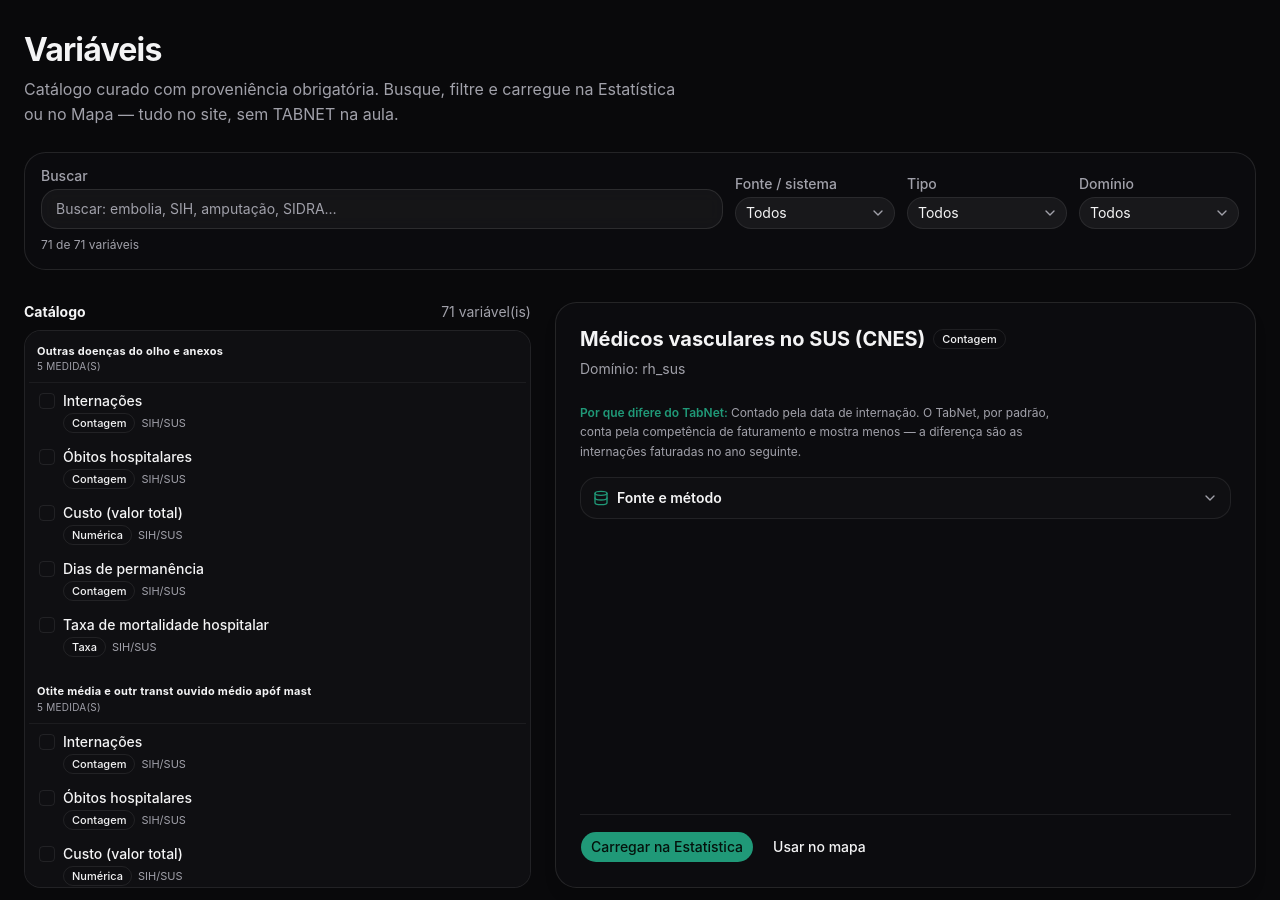
Test: VariaveisPage › finds AVC-labeled entries after canonization via the curated alias layer (TAX-05)
Type "avc" into the search field labelled "Buscar".
click(382, 209); type("avc")  # box [41,189,723,229]
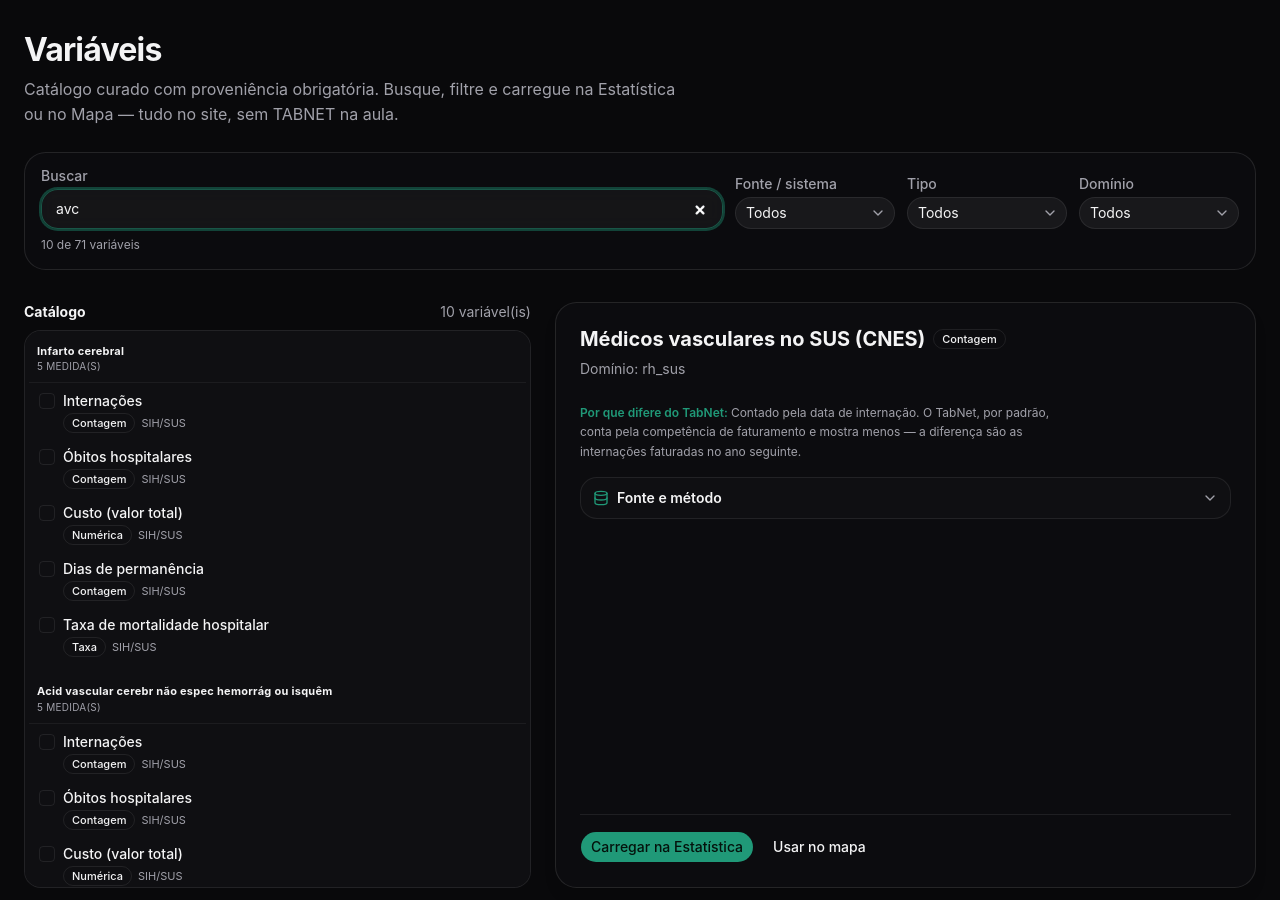
Now the text "Infarto cerebral" is shown, box [37,344,124,358]
